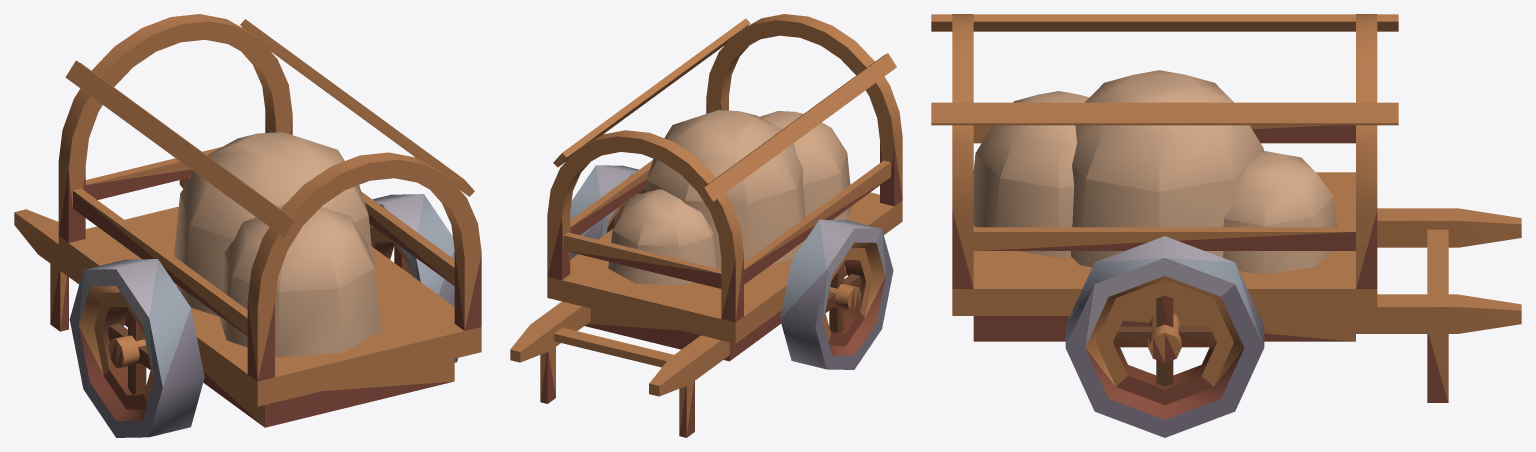
The picture shows the model from 3 angles, left to right: view 1: azimuth 30°, elevation 25°; view 2: azimuth 150°, elevation 25°; view 3: azimuth 270°, elevation 25°; orthographic projection. The views are drawn at different scales.
Parts seen in each view (by area): view 1: model; view 2: model; view 3: model.
Boxes of the visible parts, box(x1,y1,x2,y2) form: model: box(14, 14, 481, 437); model: box(510, 14, 902, 437); model: box(931, 14, 1521, 437).
Size of the model in its own units: 2.23 by 2.15 by 3.47.
